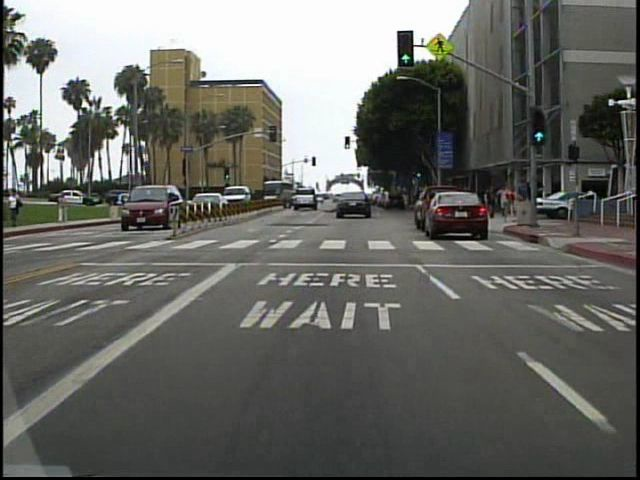person: (9, 189, 30, 230), (517, 178, 533, 220), (502, 184, 518, 224), (59, 188, 76, 225)
